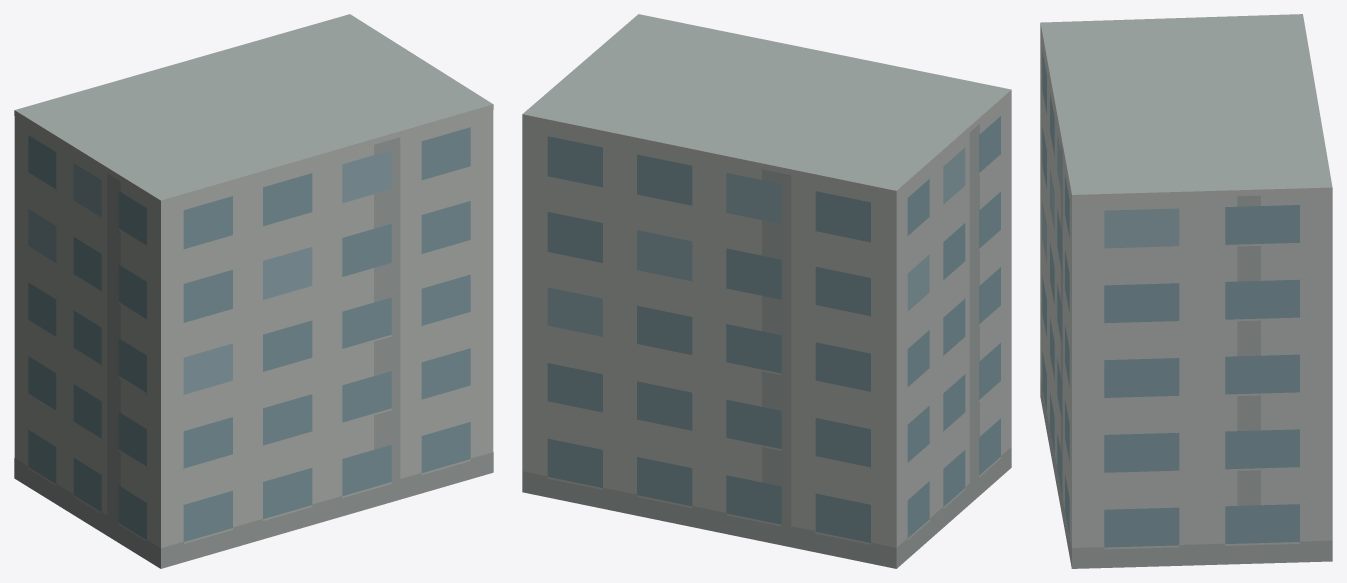
File: survey-upis-32735131.glb
3 renders of one model, left to right at view 1: azimuth 30°, elevation 25°; view 2: azimuth 150°, elevation 25°; view 3: azimuth 270°, elevation 25°, orthographic. The views are drawn at different scales.
Parts seen in each view (by area): view 1: survey-upis-32735131.tmp; view 2: survey-upis-32735131.tmp; view 3: survey-upis-32735131.tmp.
Part boxes in pixels (bbox=[...]): survey-upis-32735131.tmp: bbox=[14, 14, 493, 568]; survey-upis-32735131.tmp: bbox=[522, 14, 1011, 568]; survey-upis-32735131.tmp: bbox=[1040, 14, 1332, 568].
Size of the model in its own units: 15.83 by 15.25 by 10.81.
